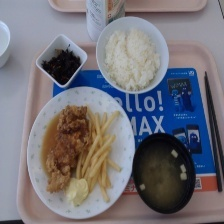rice: (100, 23, 163, 92)
